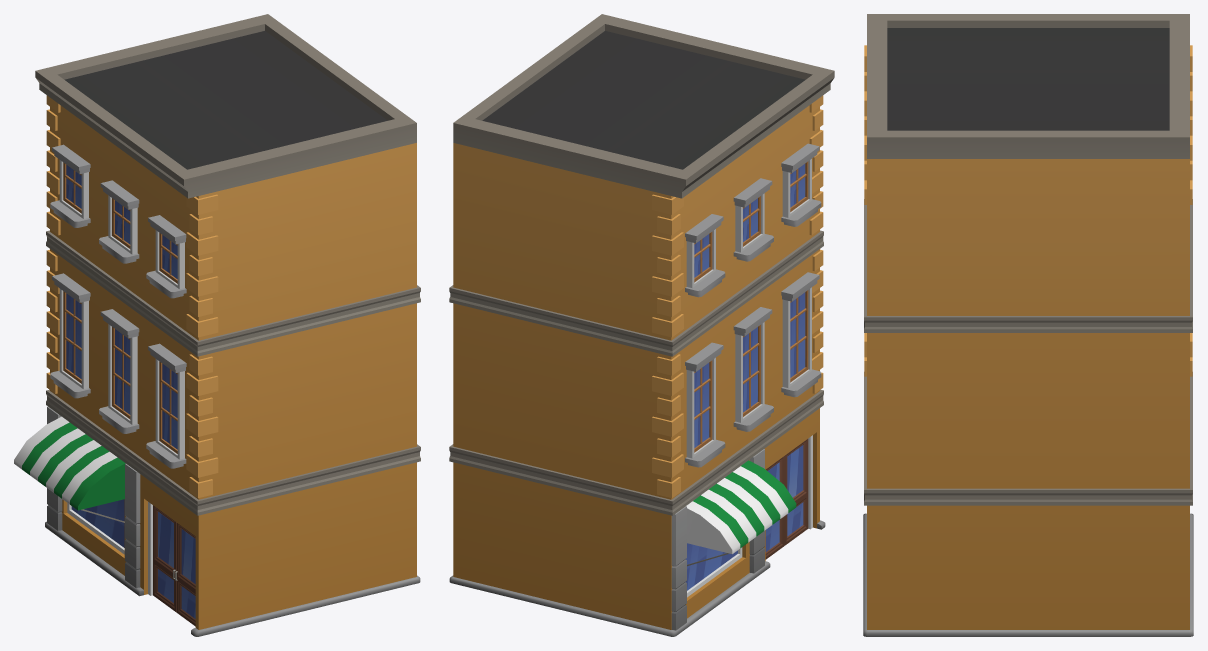
The model's file is Building_8_1_B.fbx.
3 views of the same model, side by side, from view 1: azimuth 30°, elevation 25°; view 2: azimuth 150°, elevation 25°; view 3: azimuth 270°, elevation 25° (orthographic). The views are drawn at different scales.
Visible parts, largest first — view 1: Building 8_1_B; view 2: Building 8_1_B; view 3: Building 8_1_B.
Part boxes in pixels (left/top/right/bottom): Building 8_1_B: left=14, top=14, right=420, bottom=636; Building 8_1_B: left=449, top=14, right=834, bottom=636; Building 8_1_B: left=863, top=14, right=1193, bottom=636.
Bounding box in the file's own units: 681 × 1108 × 667.
